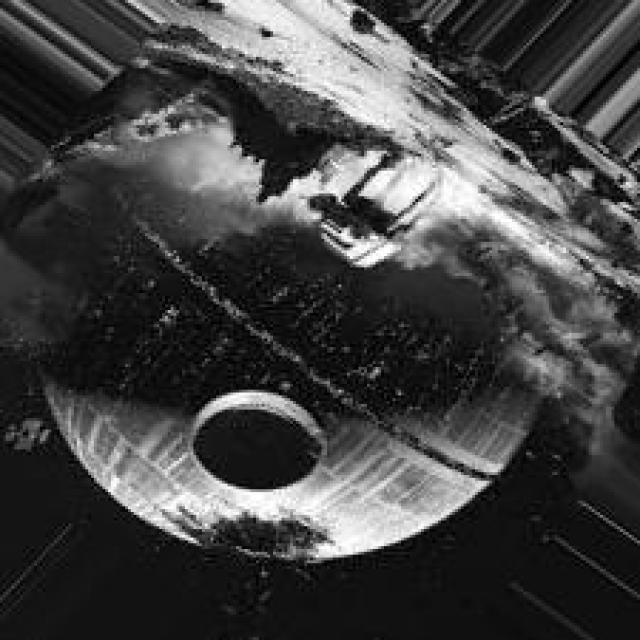deathstar: (43, 98, 551, 562)
